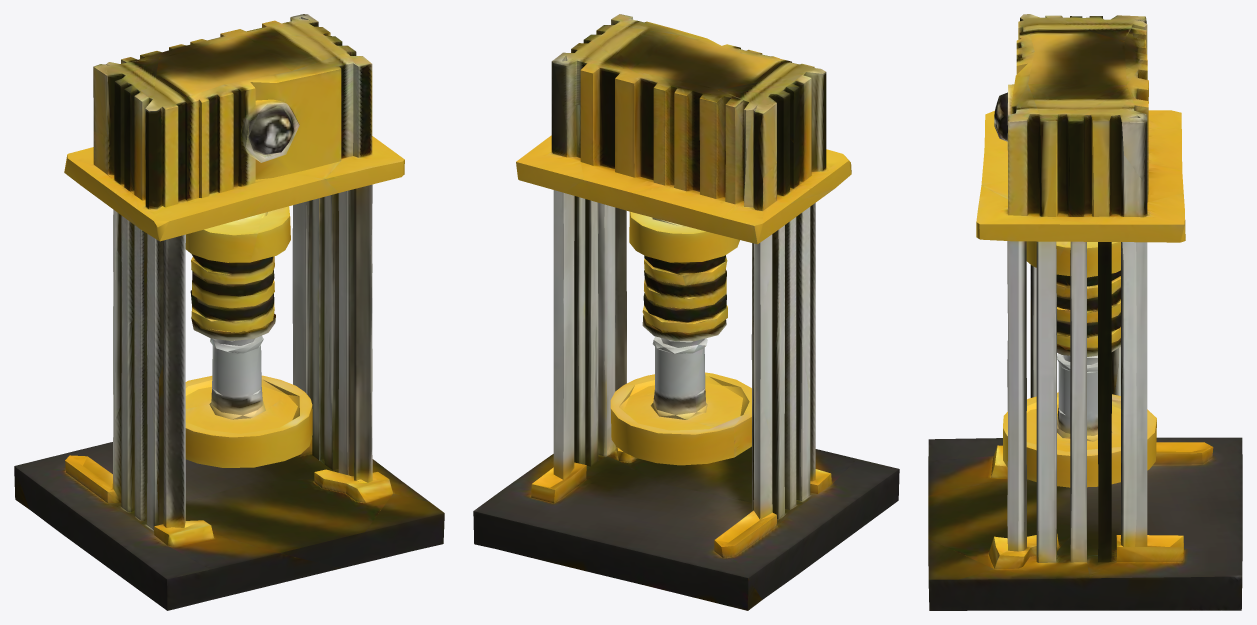
File: m2HydraulicPress.glb
3 renders of one model, left to right at view 1: azimuth 30°, elevation 25°; view 2: azimuth 150°, elevation 25°; view 3: azimuth 270°, elevation 25°, orthographic. The views are drawn at different scales.
Parts seen in each view (by area): view 1: model; view 2: model; view 3: model.
Boxes of the visible parts, x1,y1,x2,y2 form: model: (14, 14, 444, 610); model: (473, 14, 899, 610); model: (928, 14, 1242, 610).
Bounding box in the file's own units: 1.2 × 1.9 × 1.14.
Materials: 1 (1 with a texture image).
